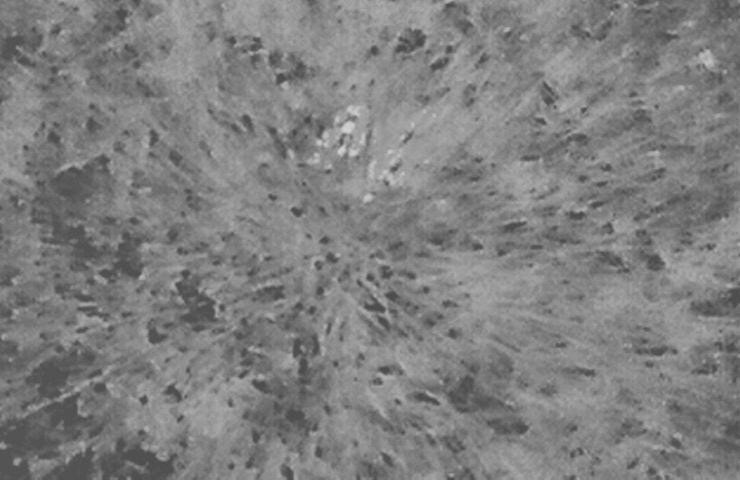landmines: (309, 97, 422, 189)
